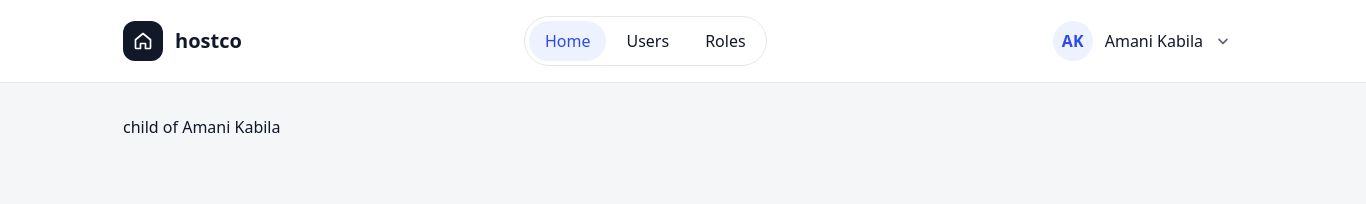
Scenario: AdminShell (en) › opens the account menu and closes it with Escape
Click the button "AK Amani Kabila": (1146, 41) [1049,17,1243,65]
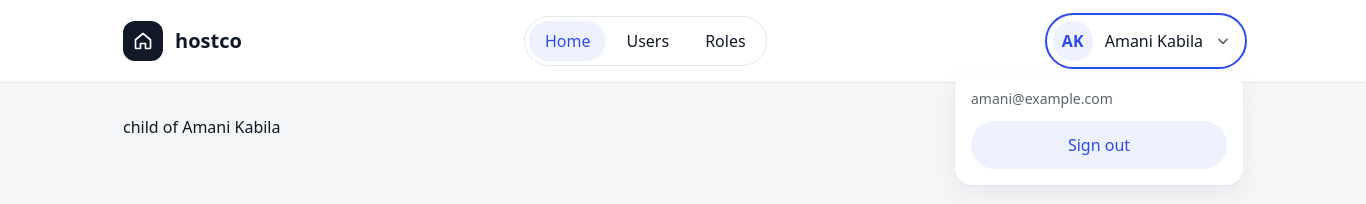
Result: the button "AK Amani Kabila" is expanded at [1049,17,1243,65]
Result: the text "amani@example.com" is shown at [971,89,1113,108]
Press Escape
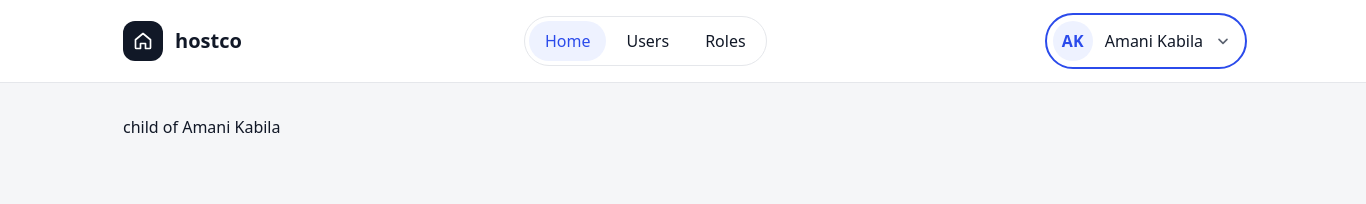
Result: the button "Sign out" is gone
